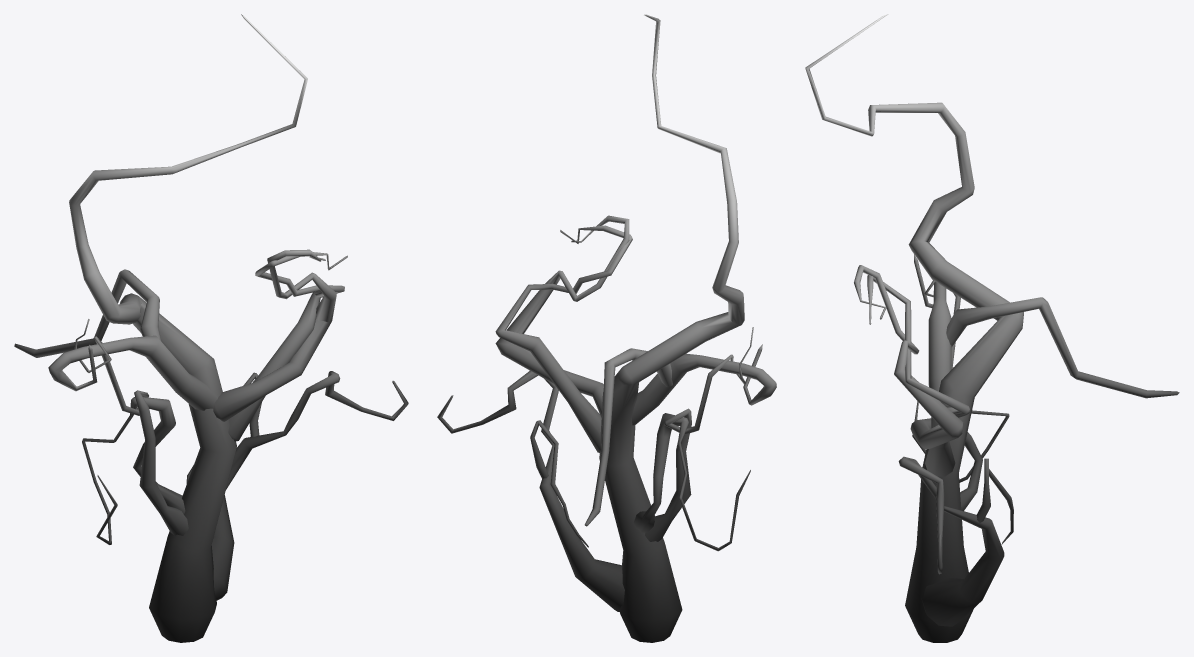
File: vinha1.fbx
3 renders of one model, left to right at view 1: azimuth 30°, elevation 25°; view 2: azimuth 150°, elevation 25°; view 3: azimuth 270°, elevation 25°, orthographic. The views are drawn at different scales.
Visible parts, largest first — view 1: vinha1; view 2: vinha1; view 3: vinha1.
Boxes of the visible parts, <box> form: vinha1: <box>14,14,408,642</box>; vinha1: <box>437,14,776,642</box>; vinha1: <box>805,14,1179,642</box>.
Bounding box in the file's own units: 0.8636 × 1.45 × 0.7724.
